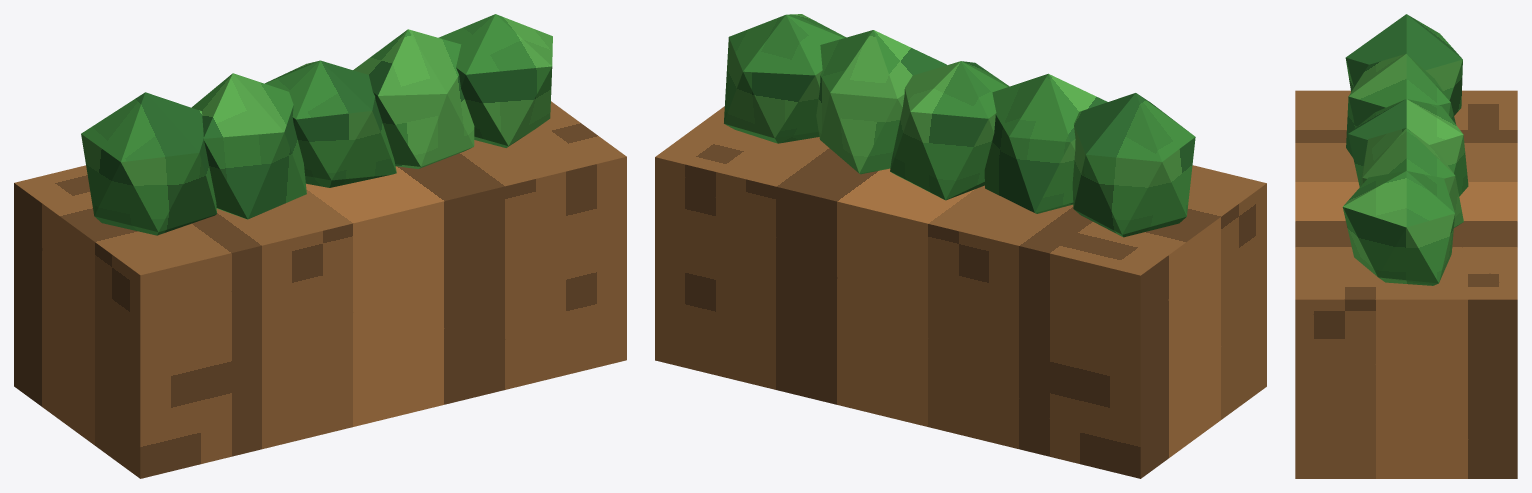
The model's file is planter.glb.
The picture shows the model from 3 angles, left to right: view 1: azimuth 30°, elevation 25°; view 2: azimuth 150°, elevation 25°; view 3: azimuth 270°, elevation 25°; orthographic projection. The views are drawn at different scales.
Visible parts, largest first — view 1: planter; view 2: planter; view 3: planter.
Boxes of the visible parts, <box> form: planter: <box>14,14,626,478</box>; planter: <box>655,14,1266,478</box>; planter: <box>1295,14,1517,478</box>.
Bounding box in the file's own units: 1 × 0.6363 × 0.45.
Materials: 3 (2 with a texture image).
